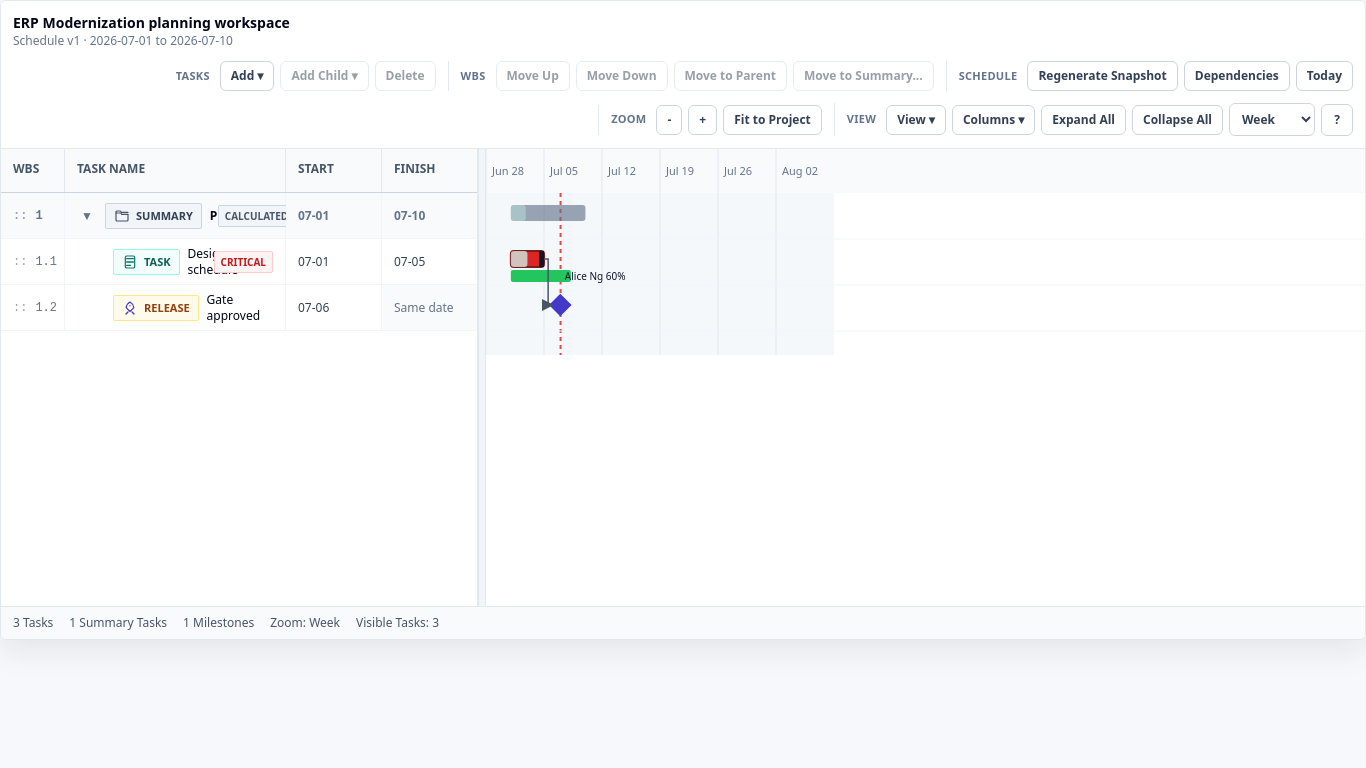
Test case: PlanningWorkspace › collapses and expands summary rows
Click the button named "collapse planning" at coordinates (87, 216), box [77,206,97,226]
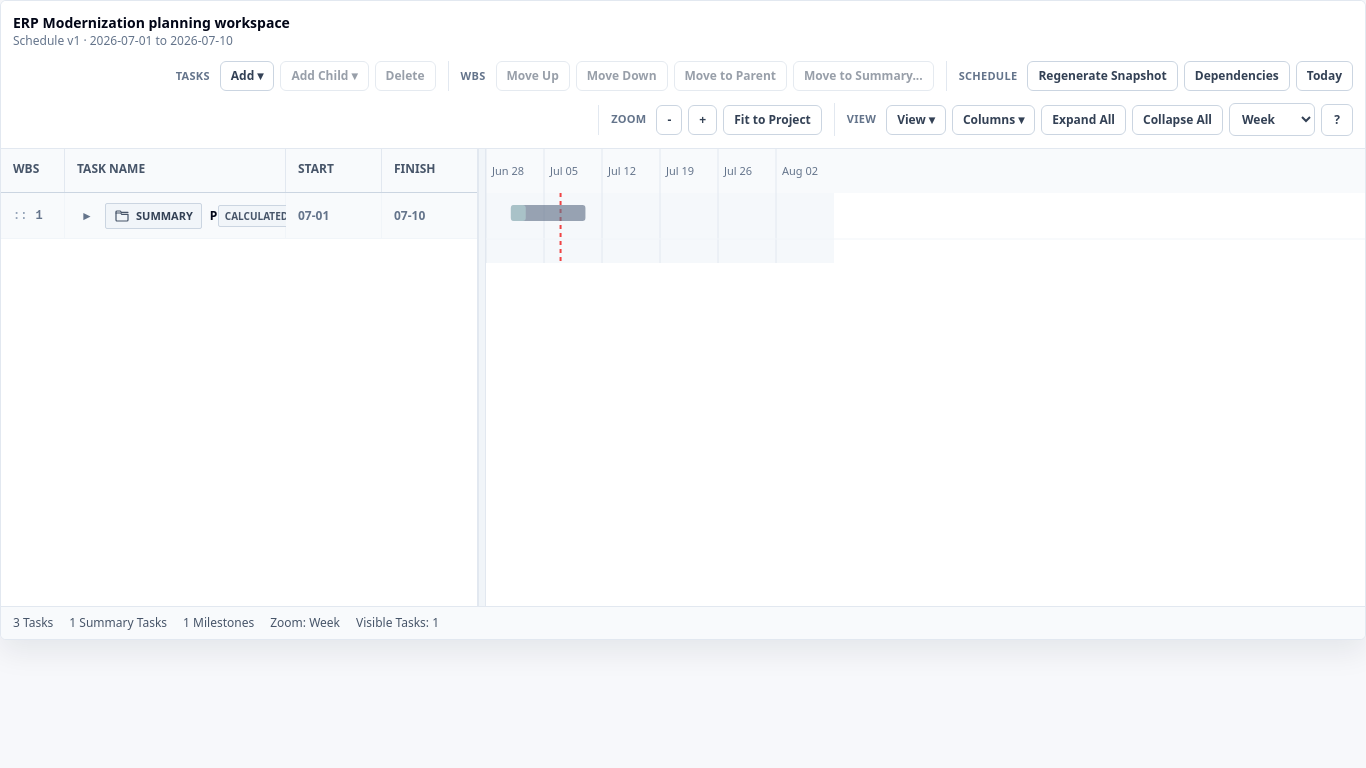
Click the button named "expand planning" at coordinates (87, 216), box [77,206,97,226]
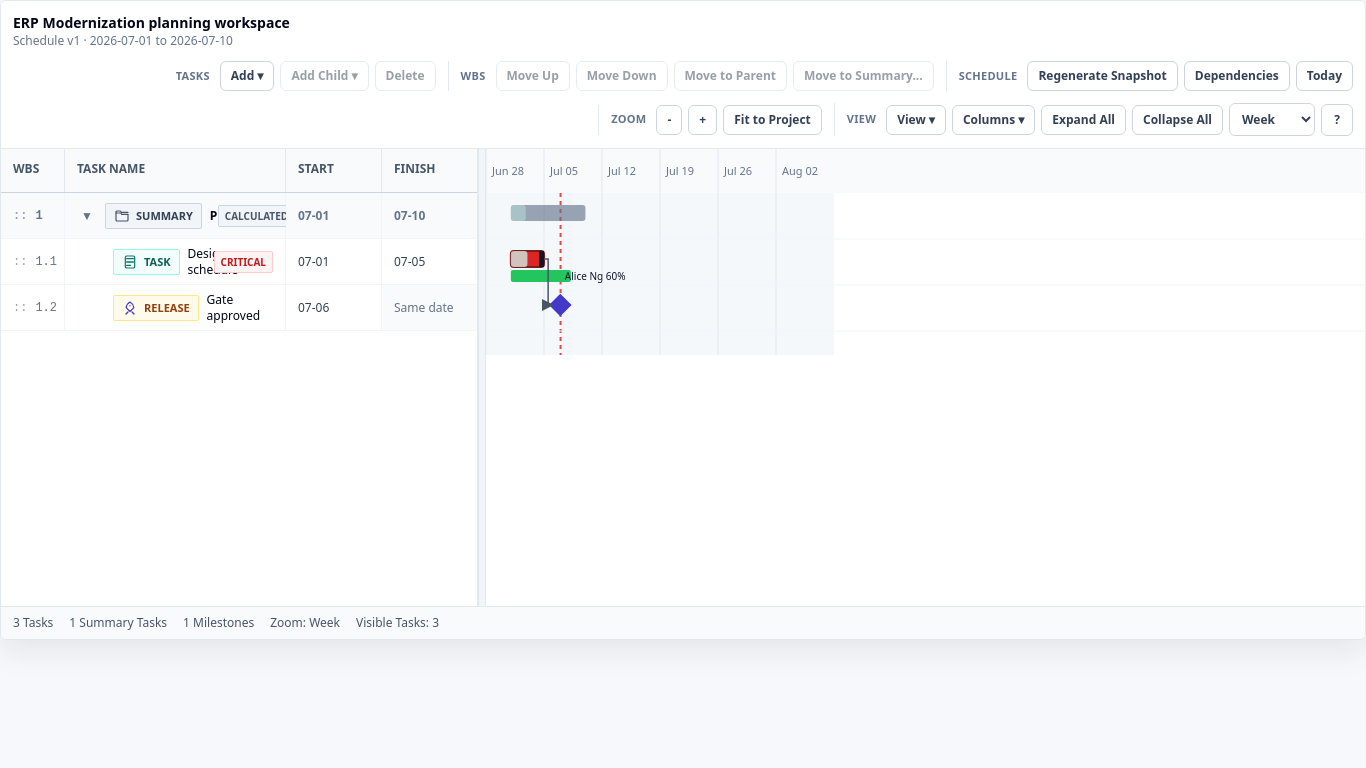
Result: the text "Design schedule" is shown at [188,246,206,278]
